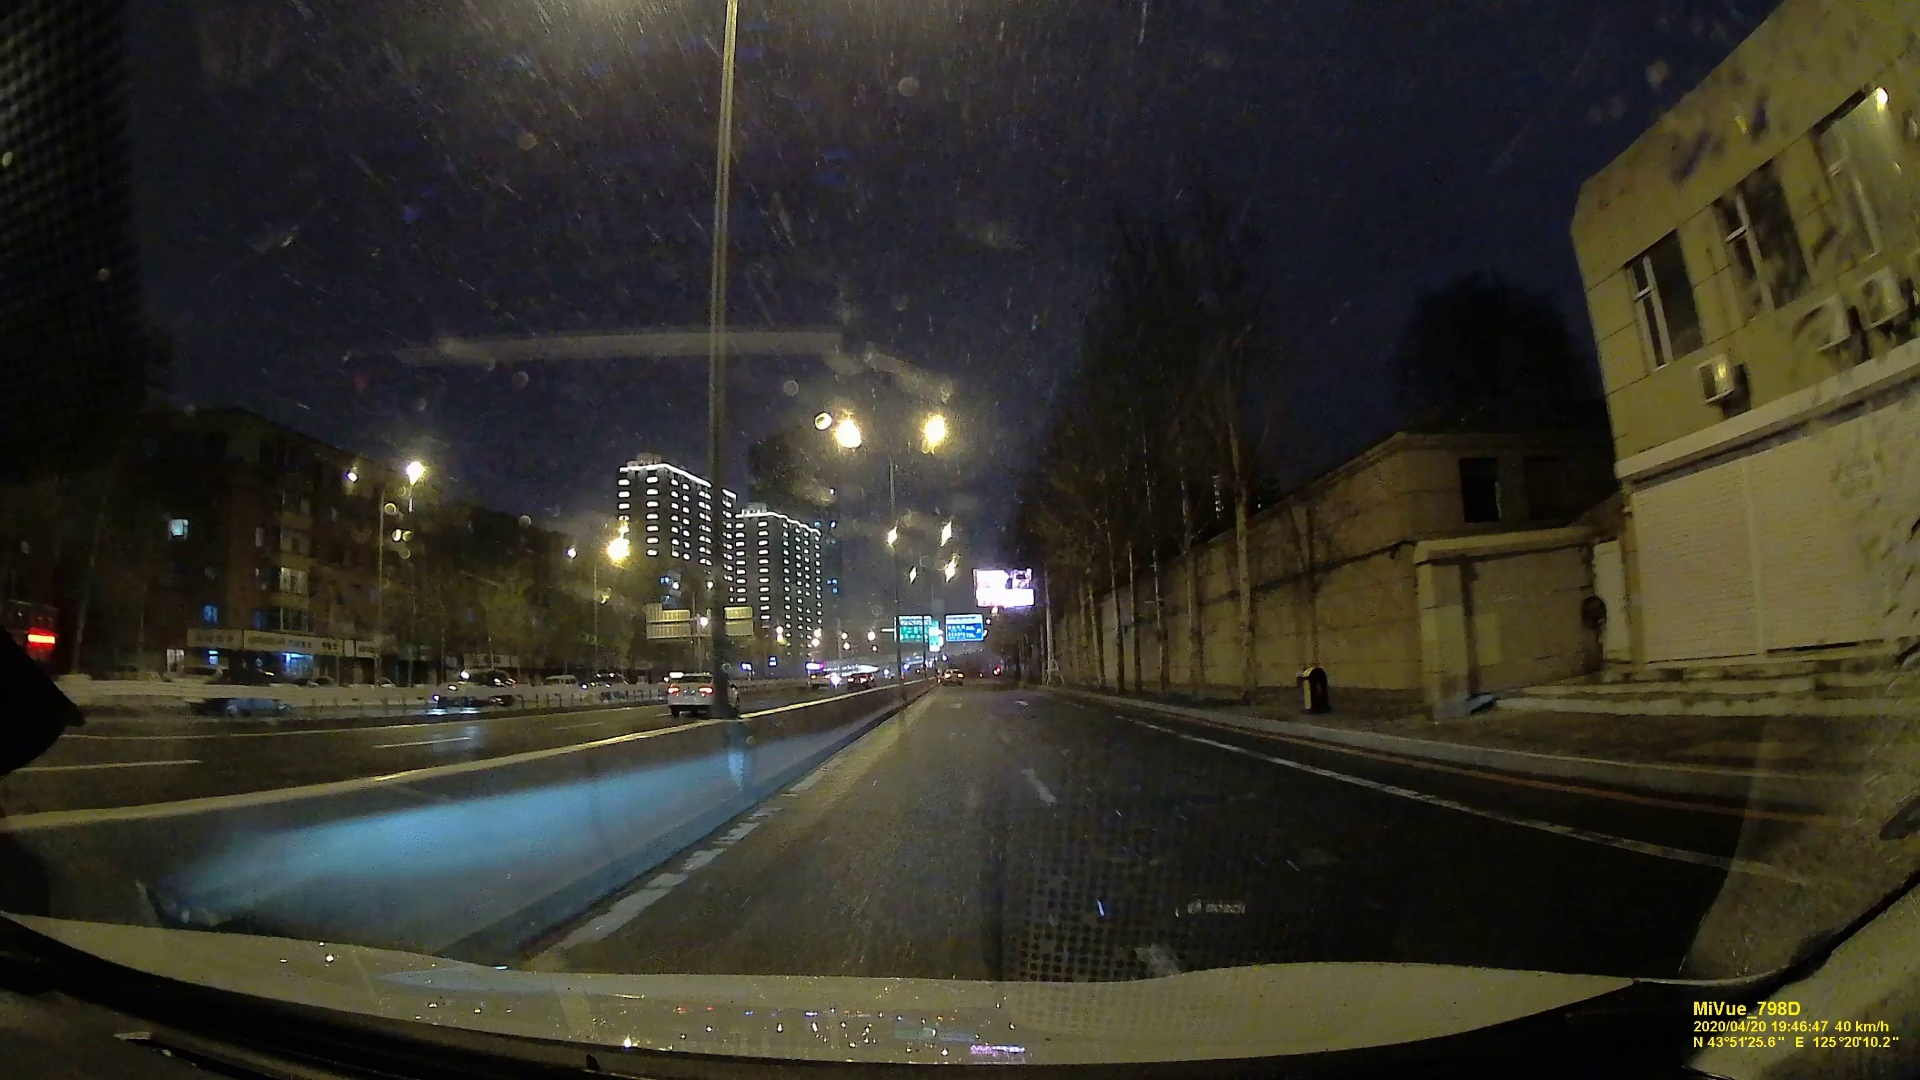traffic_sign: (895, 615, 932, 641), (945, 615, 982, 641)
vehicle: (659, 671, 733, 713), (847, 673, 872, 690), (943, 667, 963, 686)
